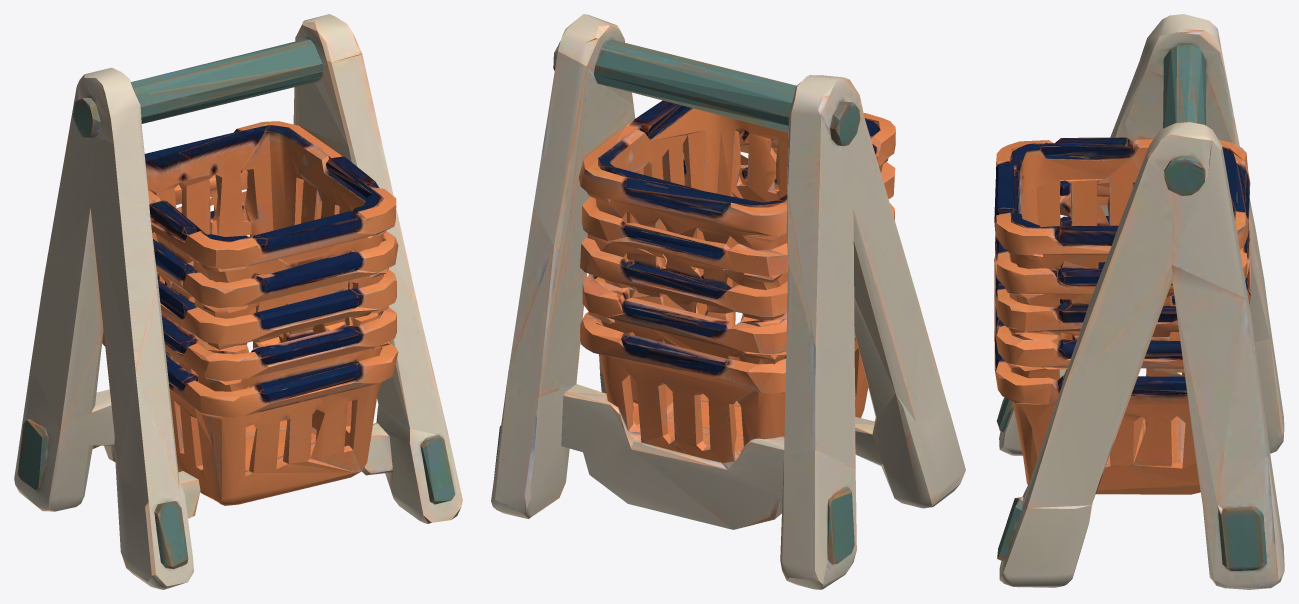
File: basketStand.glb
The picture shows the model from 3 angles, left to right: view 1: azimuth 30°, elevation 25°; view 2: azimuth 150°, elevation 25°; view 3: azimuth 270°, elevation 25°; orthographic projection. The views are drawn at different scales.
Visible parts, largest first — view 1: Mesh_0; view 2: Mesh_0; view 3: Mesh_0.
Part boxes in pixels (box(x1,y1,x2,y2)): Mesh_0: box(14, 14, 462, 589); Mesh_0: box(491, 14, 965, 589); Mesh_0: box(994, 14, 1284, 589).
Bounding box in the file's own units: 0.8276 × 1.1 × 0.6501.
Materials: 1 (1 with a texture image).
